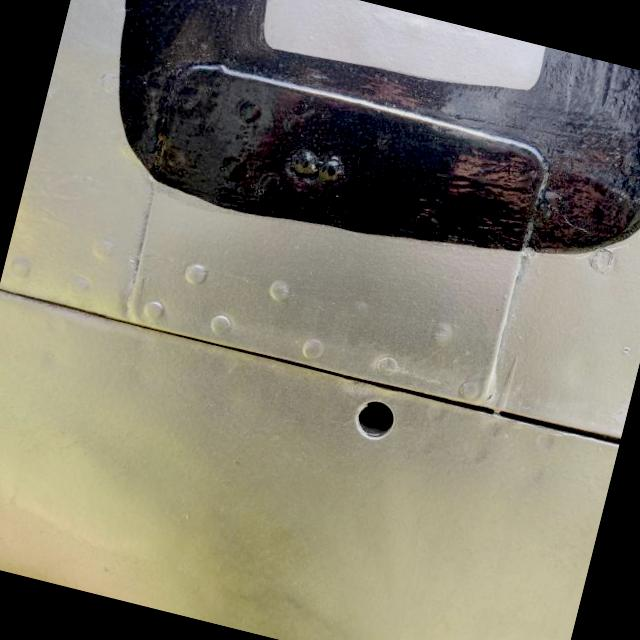Missing Fastener: (350, 396, 398, 444)
